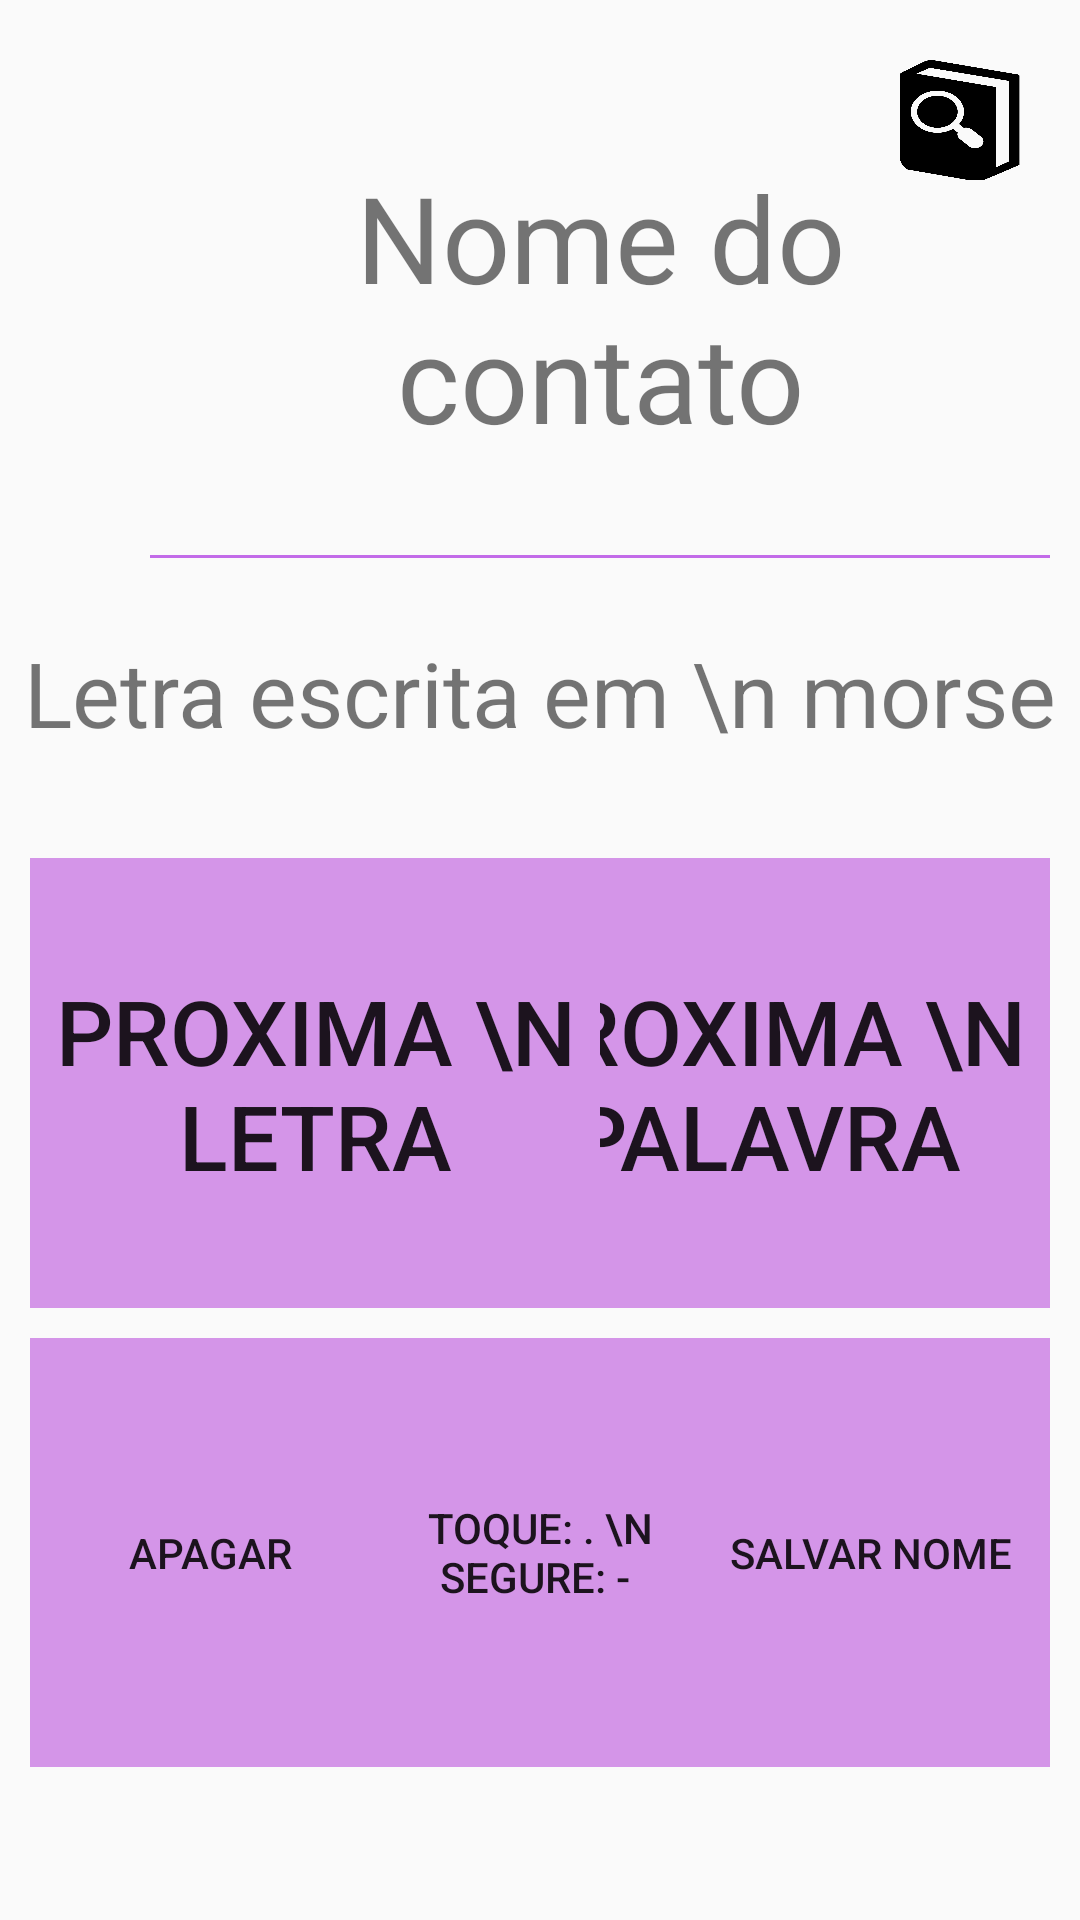

Point at icon controls on the screen. Image size 1080 x 1920, points as point (x, y).
dict: point (960, 120)
